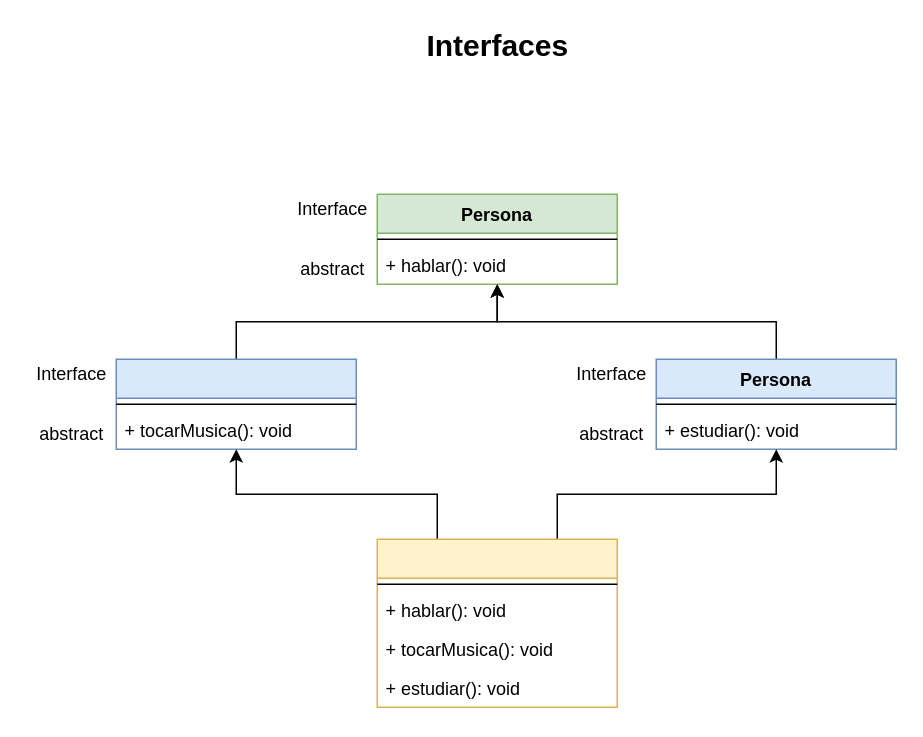
Some shapes in this 923 by 737 pixel diagram are drawn without their labels. Each missing label, with the box of its shape:
Musico: (115, 358, 356, 449)
MusicoEstudiante: (376, 538, 617, 707)
